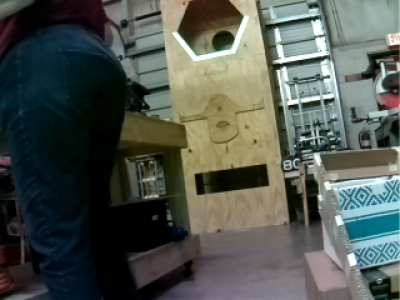target: (172, 15, 251, 62)
